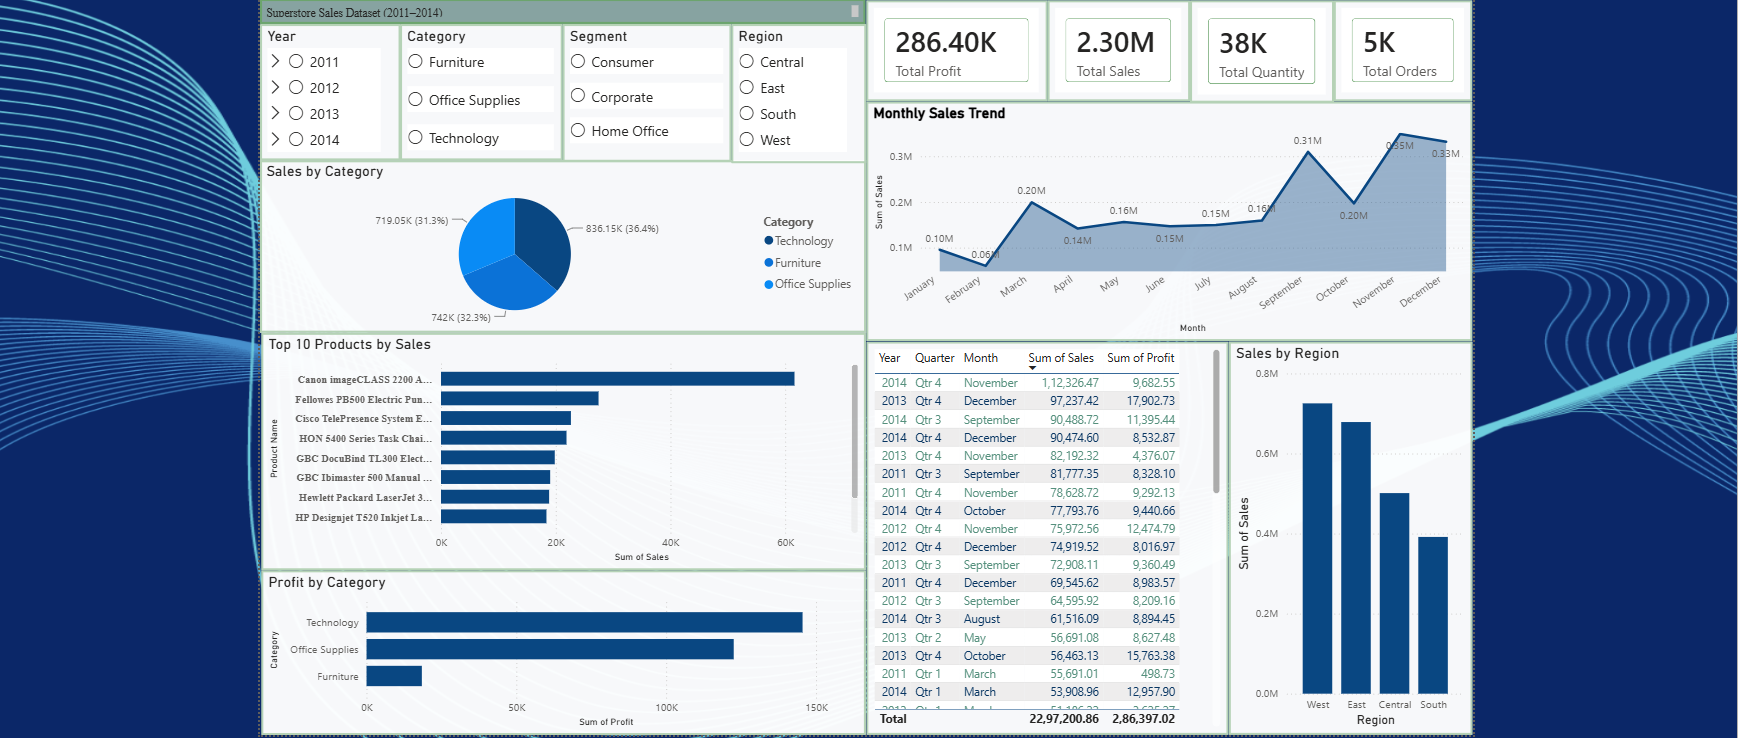

Layout of this report page (visuals, bound fields, positions):
{"tool":"powerbi","page":{"name":"Page 1","canvas":[1400,850],"ordinal":0},"visuals":[{"type":"tableEx","fields":{"Values":["Superstore.Order Date.Variation.Date Hierarchy.Year","Superstore.Order Date.Variation.Date Hierarchy.Quarter","Superstore.Order Date.Variation.Date Hierarchy.Month","Sum(Superstore.Sales)","Sum(Superstore.Profit)"]},"box":[700.2,395.6,418.7,454.7],"z":0},{"type":"cardVisual","fields":{"Data":["Superstore.Total Sales"]},"box":[909.5,1.4,164.6,116.9],"z":1000},{"type":"cardVisual","fields":{"Data":["Superstore.Total Quantity"]},"box":[1074.1,1.4,166,118.4],"z":2000},{"type":"cardVisual","fields":{"Data":["Superstore.Total Profit"]},"box":[700.2,1.4,209.3,116.9],"z":3000},{"type":"cardVisual","fields":{"Data":["Superstore.Total Orders"]},"box":[1240.1,1.4,160.2,116.9],"z":4000},{"type":"lineChart","title":"Monthly Sales Trend","fields":{"Category":["Superstore.Order Date.Variation.Date Hierarchy.Month","Superstore.Order Date.Variation.Date Hierarchy.Day"],"Y":["Sum(Superstore.Sales)"]},"box":[700.2,118.4,700.2,277.2],"z":5000},{"type":"clusteredBarChart","title":"Top 10 Products by Sales","fields":{"Category":["Superstore.Product Name"],"Y":["Sum(Superstore.Sales)"]},"box":[1.4,385.4,698.7,274.3],"z":6000},{"type":"pieChart","title":"Sales by Category","fields":{"Category":["Superstore.Category"],"Y":["Sum(Superstore.Sales)"]},"box":[0,186.2,700.2,199.2],"z":7000},{"type":"clusteredColumnChart","title":"Sales by Region","fields":{"Category":["Superstore.Region"],"Y":["Sum(Superstore.Sales)"]},"box":[1118.8,395.6,281.5,454.7],"z":8000},{"type":"barChart","title":"Profit by Category","fields":{"Category":["Superstore.Category"],"Y":["Sum(Superstore.Profit)"]},"box":[1.4,659.7,698.7,190.6],"z":9000},{"type":"listSlicer","fields":{"Values":["Superstore.Order Date.Variation.Date Hierarchy.Year","Superstore.Order Date.Variation.Date Hierarchy.Quarter","Superstore.Order Date.Variation.Date Hierarchy.Month","Superstore.Order Date.Variation.Date Hierarchy.Day"]},"box":[0,28.5,162.1,157.6],"z":10000},{"type":"listSlicer","fields":{"Values":["Superstore.Category"]},"box":[162.1,28.5,187.6,157.6],"z":11000},{"type":"listSlicer","fields":{"Values":["Superstore.Region"]},"box":[544.8,28.5,156.1,160.6],"z":12000},{"type":"listSlicer","fields":{"Values":["Superstore.Segment"]},"box":[349.7,28.5,195.1,159.1],"z":13000},{"type":"textbox","box":[0,0,699.4,29],"z":14000}]}

Visuals, with their boxes in screenshot pixels (x1, y1, x2, y2):
tableEx - Superstore.Order Date.Variation.Date Hierarchy.Year x Superstore.Order Date.Variation.Date Hierarchy.Quarter: (x1=866, y1=339, x2=1225, y2=728)
cardVisual - Superstore.Total Sales: (x1=1046, y1=1, x2=1186, y2=101)
cardVisual - Superstore.Total Quantity: (x1=1186, y1=1, x2=1328, y2=103)
cardVisual - Superstore.Total Profit: (x1=866, y1=1, x2=1046, y2=101)
cardVisual - Superstore.Total Orders: (x1=1328, y1=1, x2=1466, y2=101)
"Monthly Sales Trend" lineChart: (x1=866, y1=101, x2=1466, y2=339)
"Top 10 Products by Sales" clusteredBarChart: (x1=268, y1=330, x2=866, y2=565)
"Sales by Category" pieChart: (x1=267, y1=159, x2=866, y2=330)
"Sales by Region" clusteredColumnChart: (x1=1225, y1=339, x2=1466, y2=728)
"Profit by Category" barChart: (x1=268, y1=565, x2=866, y2=728)
listSlicer - Superstore.Order Date.Variation.Date Hierarchy.Year x Superstore.Order Date.Variation.Date Hierarchy.Quarter: (x1=267, y1=24, x2=406, y2=159)
listSlicer - Superstore.Category: (x1=406, y1=24, x2=566, y2=159)
listSlicer - Superstore.Region: (x1=733, y1=24, x2=867, y2=162)
listSlicer - Superstore.Segment: (x1=566, y1=24, x2=733, y2=161)
textbox: (x1=267, y1=0, x2=866, y2=25)
